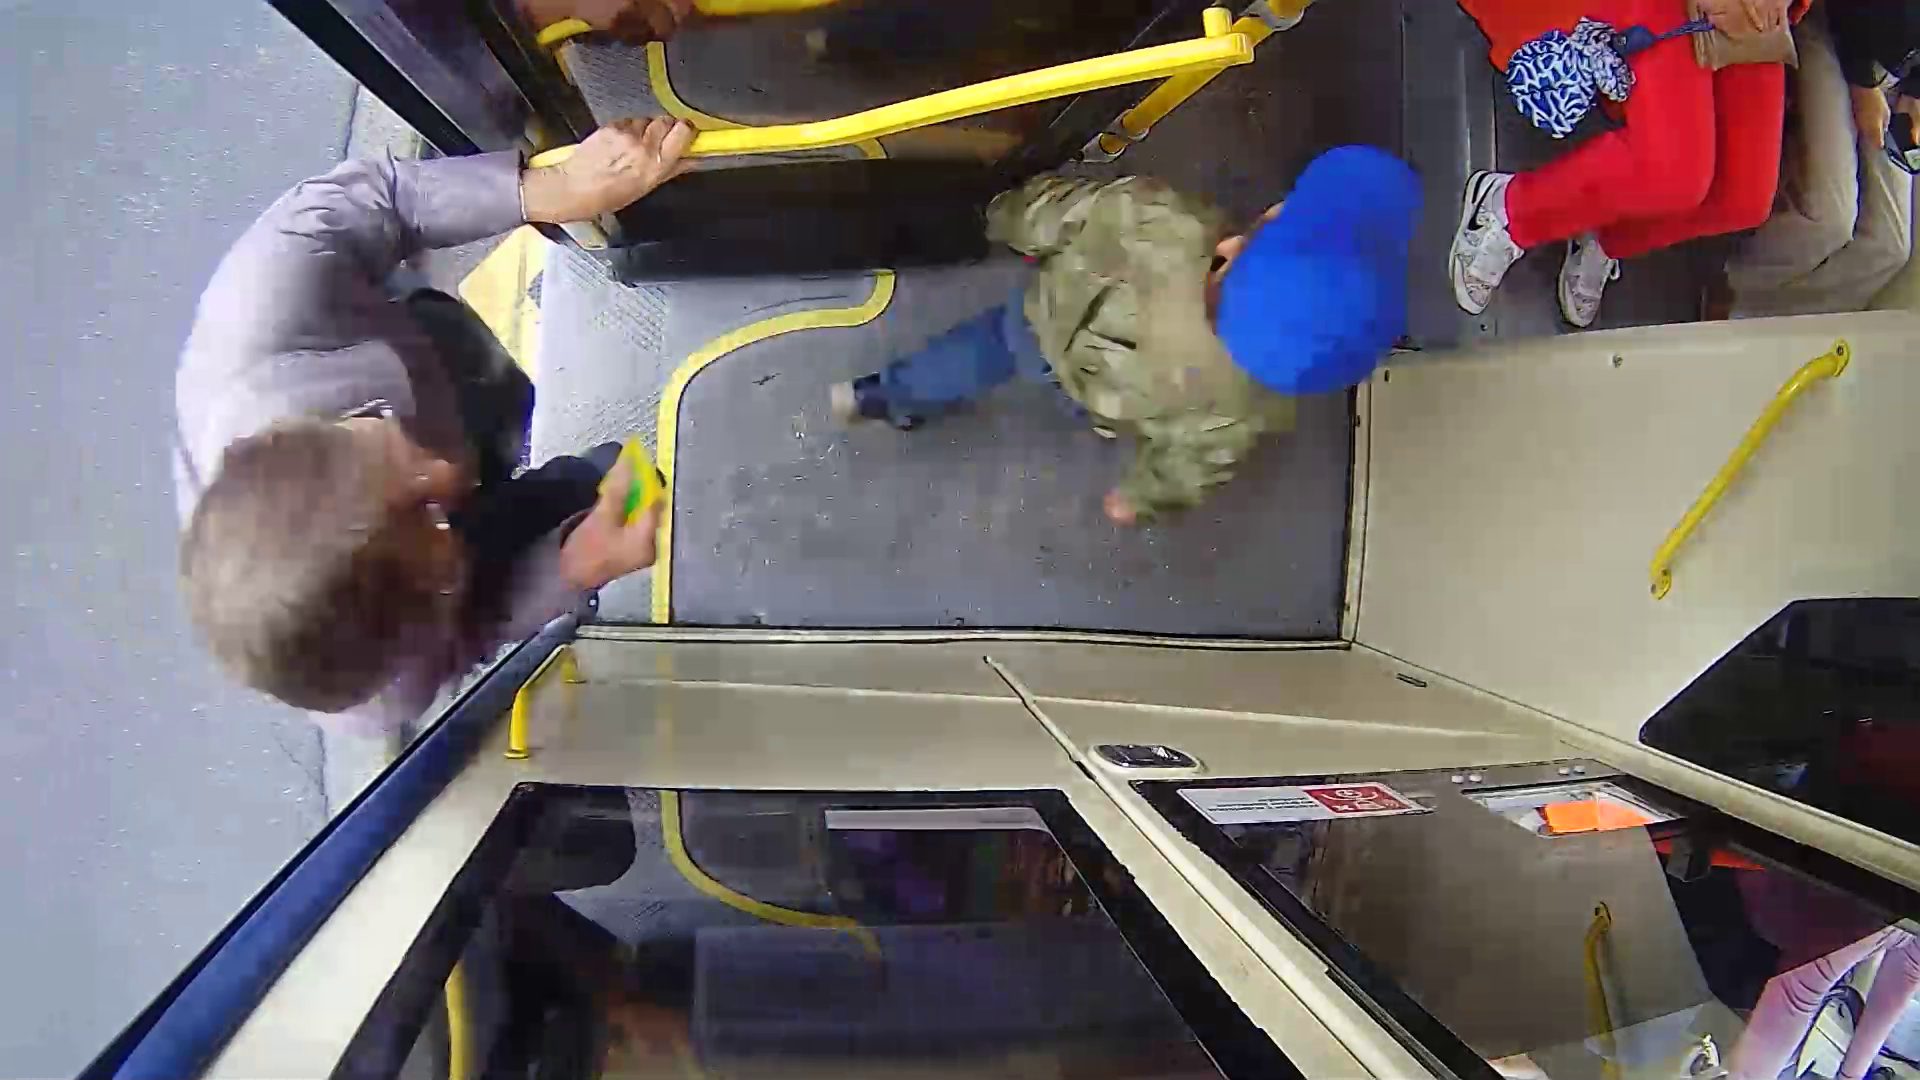person: (137, 154, 715, 719), (884, 113, 1475, 594)
